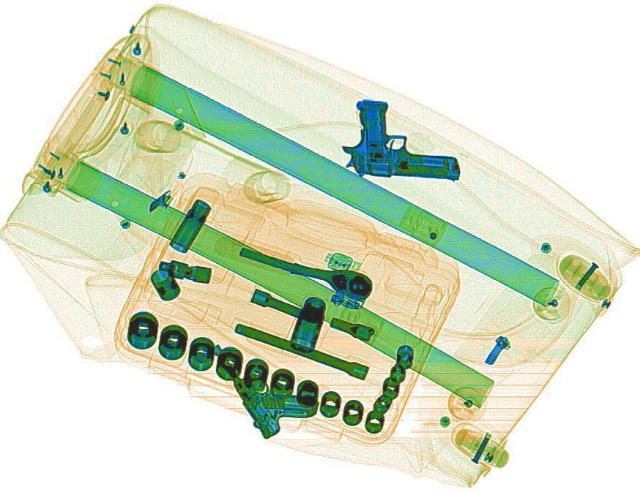Gun: (200, 325, 328, 436), (335, 97, 467, 180)
